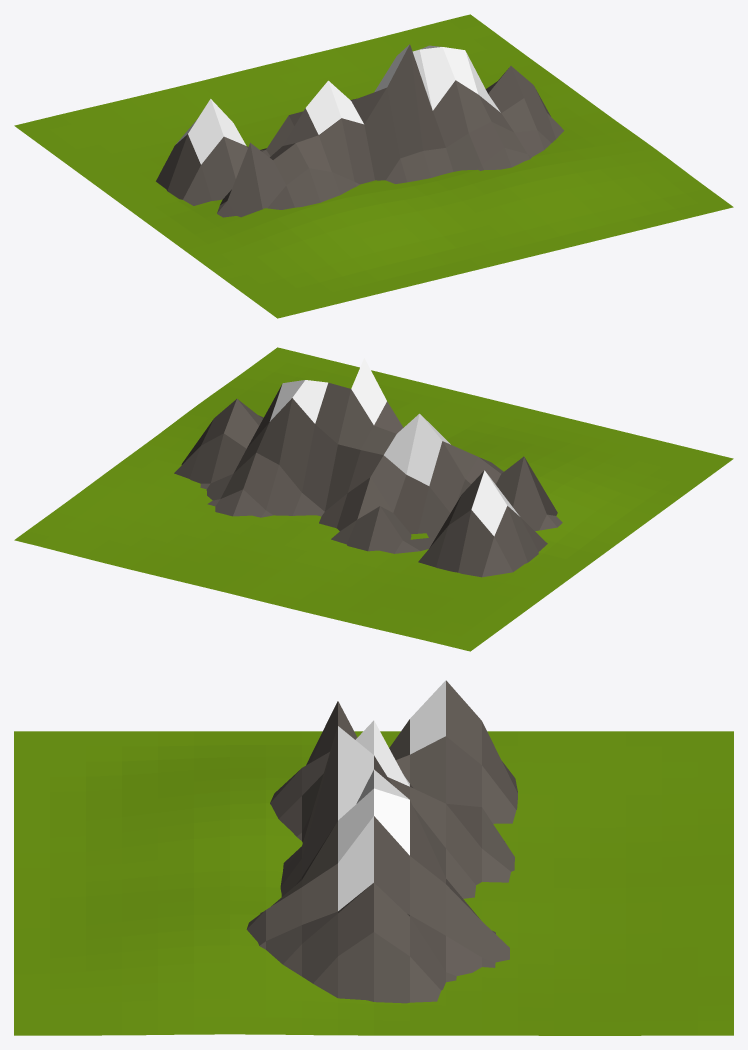
Rendered from modularTerrian.fbx.
The picture shows the model from 3 angles, top to bottom: view 1: azimuth 30°, elevation 25°; view 2: azimuth 150°, elevation 25°; view 3: azimuth 270°, elevation 25°; orthographic projection. The views are drawn at different scales.
Visible parts, largest first — view 1: Ground, Mountain; view 2: Ground, Mountain; view 3: Ground, Mountain.
Part boxes in pixels (x1,y1,x2,y2): Ground: (14, 14, 733, 318); Mountain: (156, 44, 564, 217); Ground: (14, 347, 733, 651); Mountain: (174, 358, 562, 577); Ground: (14, 731, 733, 1035); Mountain: (246, 680, 517, 1003).
Size of the model in its own units: 2000 by 564 by 2000.
